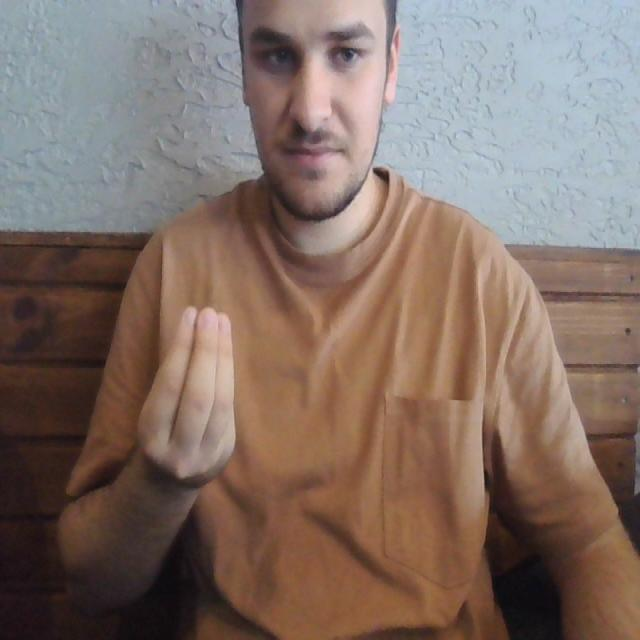iyi: (130, 301, 242, 495)
